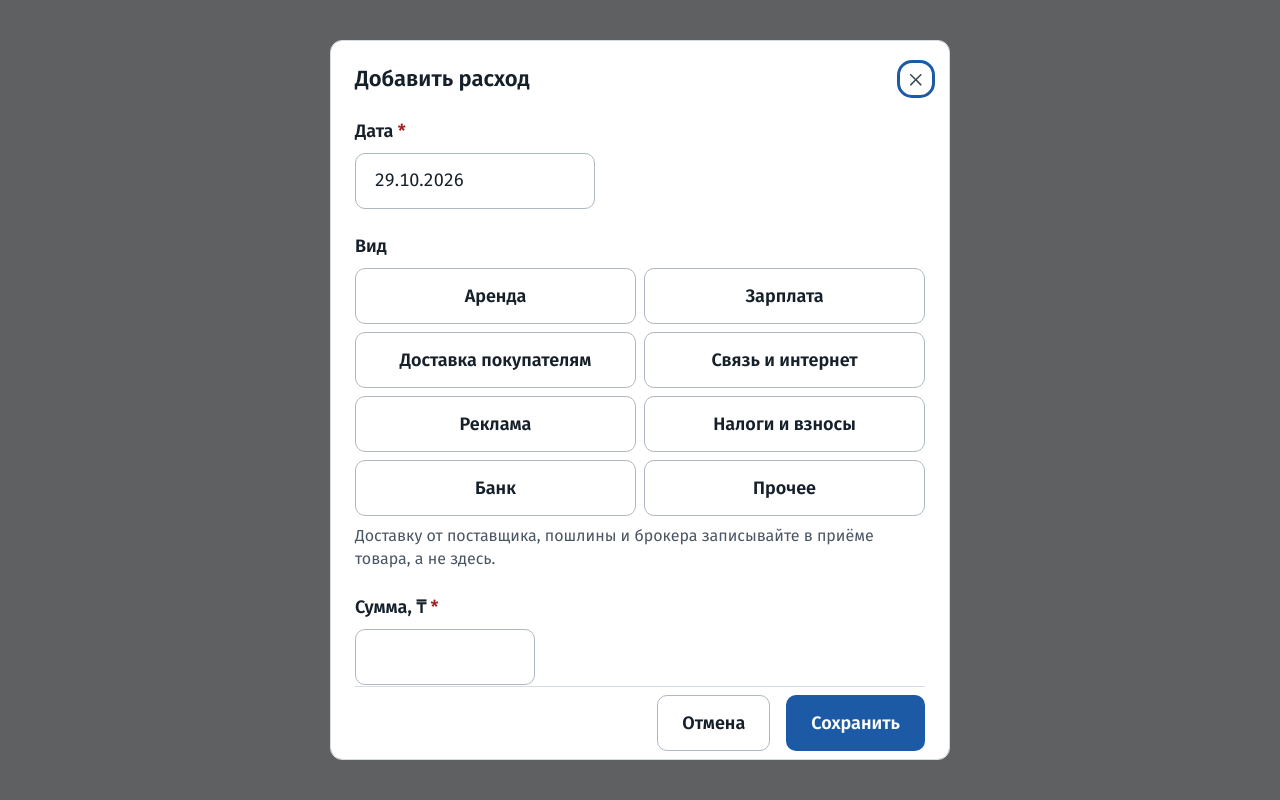
it: shows tax and bank hints only for nonzero settings 3/1
The width and height of the screenshot is (1280, 800).
Click the button "Налоги и взносы". click: (784, 424)
box: left=644, top=396, right=925, bottom=452
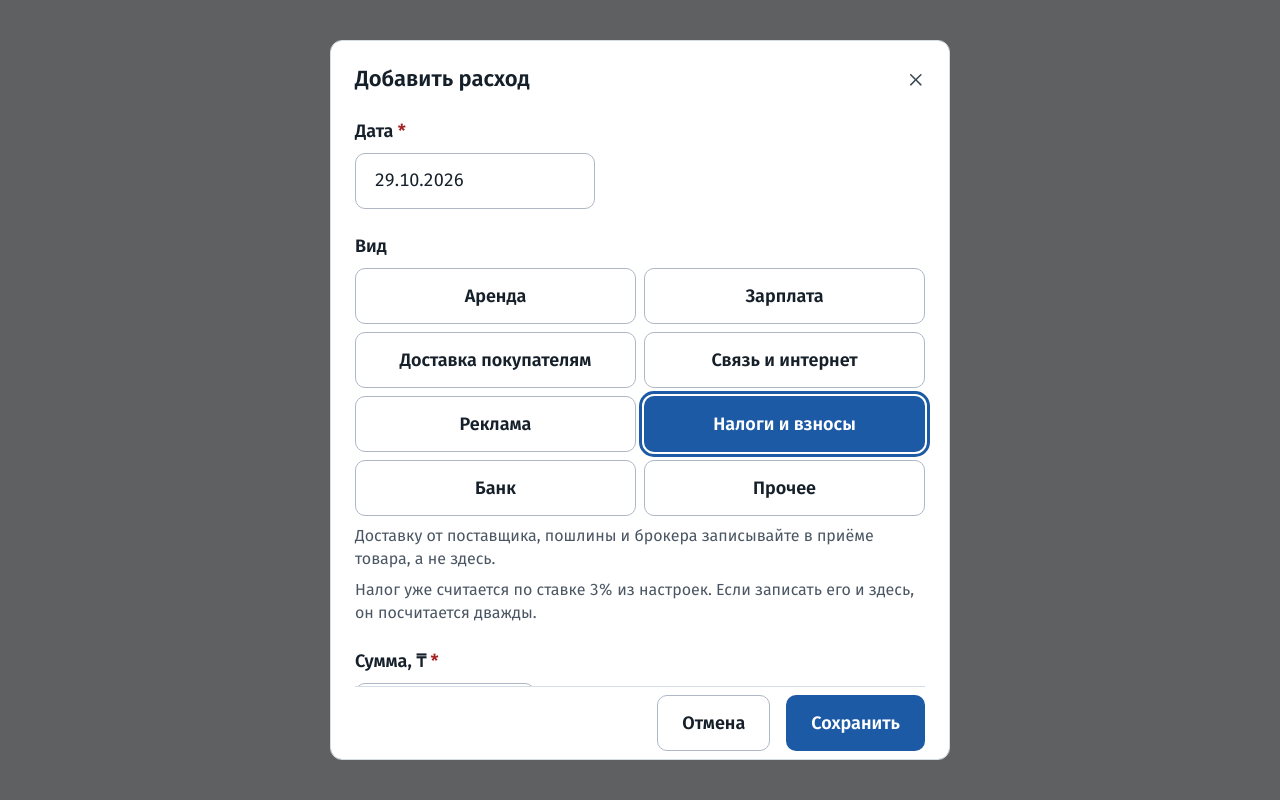
Now the text "Налог уже считается" is shown, box left=355, top=580, right=914, bottom=622
Click the button "Банк". click: (496, 488)
box: left=355, top=460, right=636, bottom=516
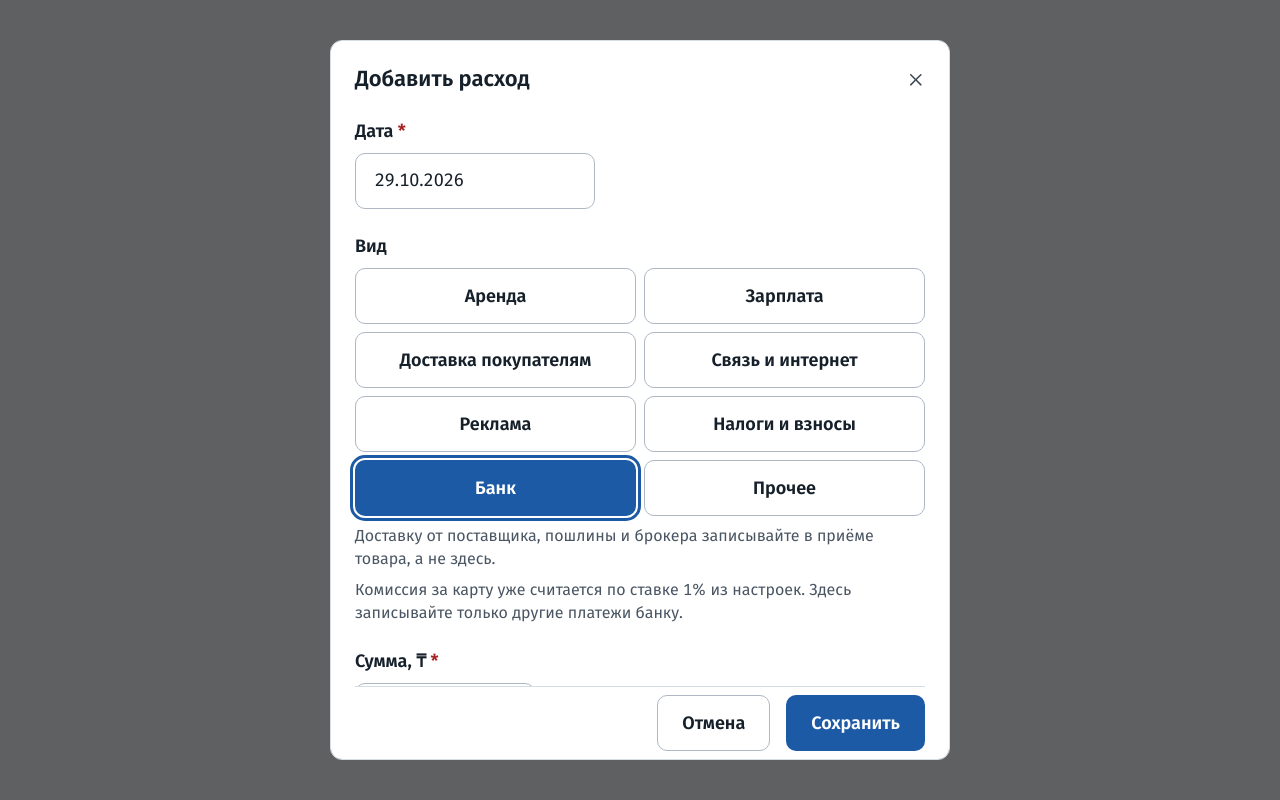
Expected: the text "Доставку от поставщика" is shown, left=355, top=526, right=874, bottom=568
Now the text "Налог уже считается" is gone
Now the text "Комиссия за карту уже" is shown, box left=355, top=580, right=851, bottom=622
